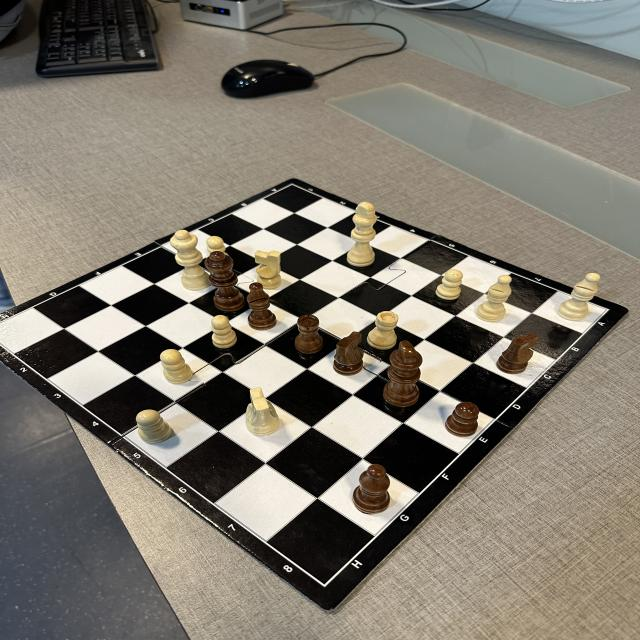Black-Bishop: (352, 464, 390, 514), (246, 282, 277, 331)
Black-King: (382, 340, 423, 408)
Black-Knight: (496, 333, 540, 374), (332, 331, 365, 376)
Black-Pawn: (444, 402, 479, 437)
Black-Queen: (204, 251, 246, 312)
Black-Rook: (294, 314, 325, 354)
White-Bishop: (558, 273, 601, 321), (476, 275, 513, 322)
White-King: (347, 202, 378, 266)
White-Knight: (246, 386, 280, 436), (254, 249, 282, 287)
White-Pawn: (135, 409, 172, 444), (159, 349, 194, 384), (210, 314, 238, 348), (436, 269, 464, 301), (206, 236, 225, 252)
White-Queen: (170, 229, 207, 291)
White-Rook: (366, 310, 399, 350)
